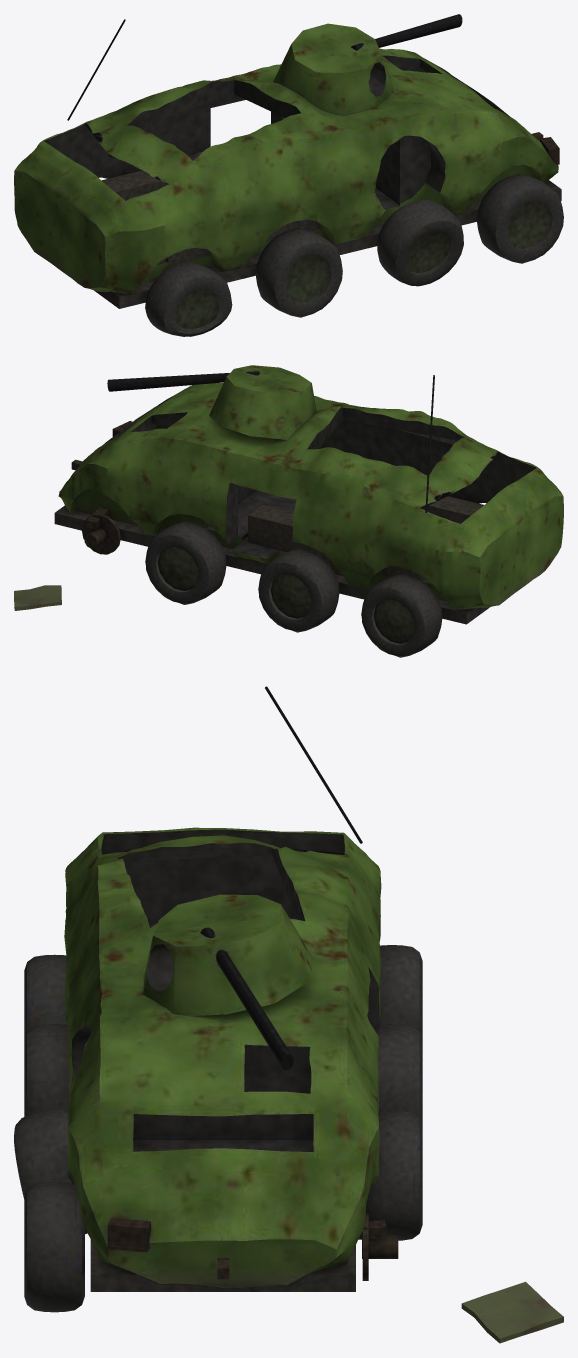
The model's file is blindado_semidestruido.glb.
3 renders of one model, top to bottom at view 1: azimuth 30°, elevation 25°; view 2: azimuth 150°, elevation 25°; view 3: azimuth 270°, elevation 25°, orthographic. The views are drawn at different scales.
Visible parts, largest first — view 1: blindado_semidestruido; view 2: blindado_semidestruido; view 3: blindado_semidestruido.
Part boxes in pixels (x1=…): blindado_semidestruido: x1=14, y1=14, x2=563, y2=336; blindado_semidestruido: x1=14, y1=365, x2=563, y2=657; blindado_semidestruido: x1=14, y1=686, x2=563, y2=1343.
Size of the model in its own units: 6.76 by 3.59 by 4.56.
Materials: 1 (1 with a texture image).
